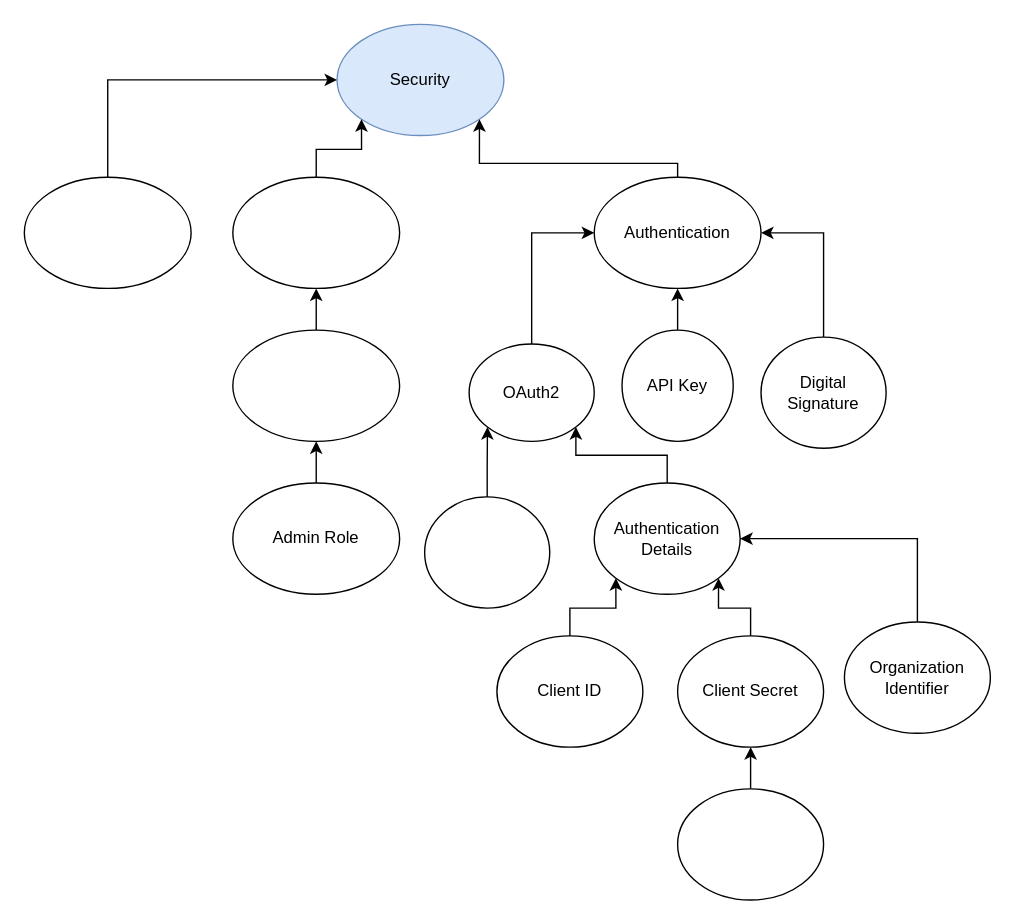
The diagram is 1015 pixels wide and 924 high, and some of its shapes have lost their labels. The box of each missing label's shape, as (x1, y1, x2, y2) in pixels:
Access Management: (231, 176, 400, 288)
Access Policy: (231, 329, 400, 441)
Data Backups: (23, 176, 191, 288)
Implicit Flow: (423, 496, 550, 608)
Secret Key: (676, 787, 824, 900)
